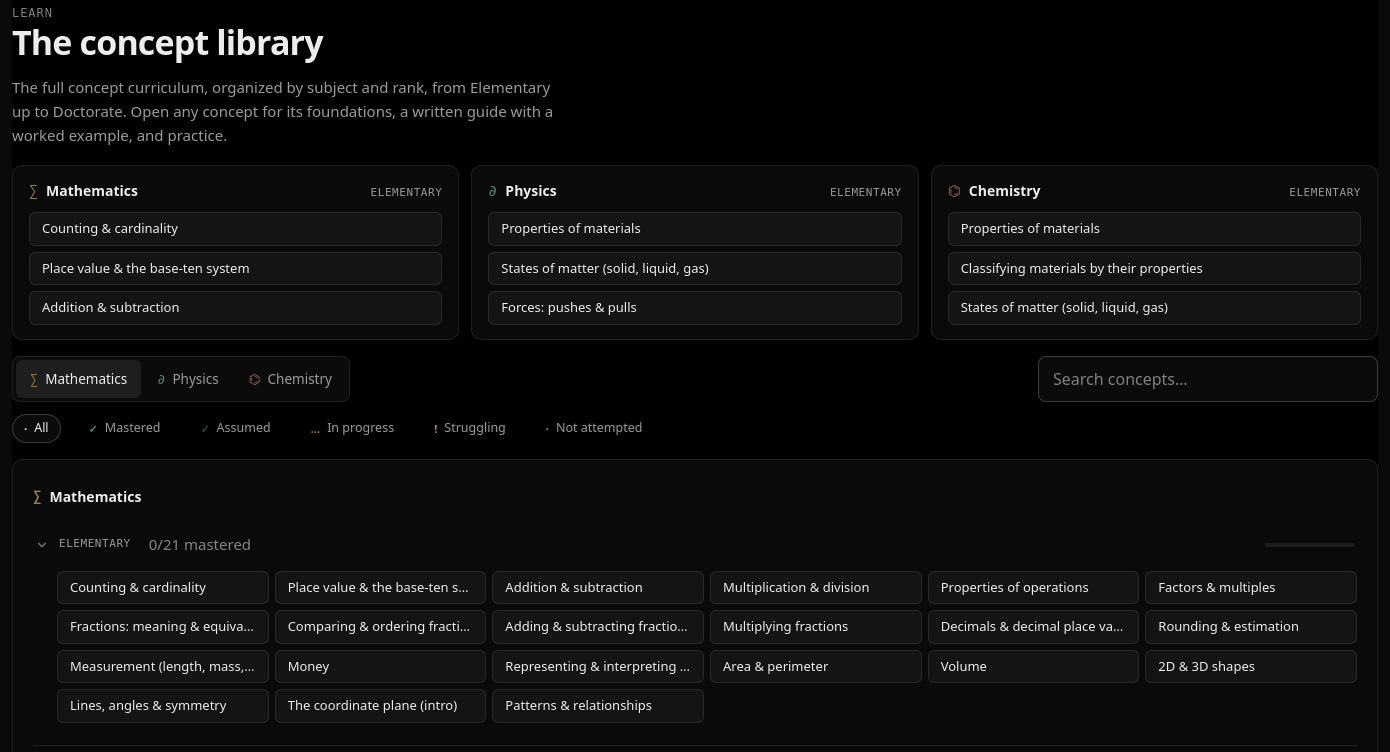
LearnTab — curriculum listing › the 'Up next' strip points each subject at its current rank's next concepts
The width and height of the screenshot is (1390, 752).
Click the button with aria-label "Up next: " at coordinates (110, 228), box left=29, top=212, right=442, bottom=246
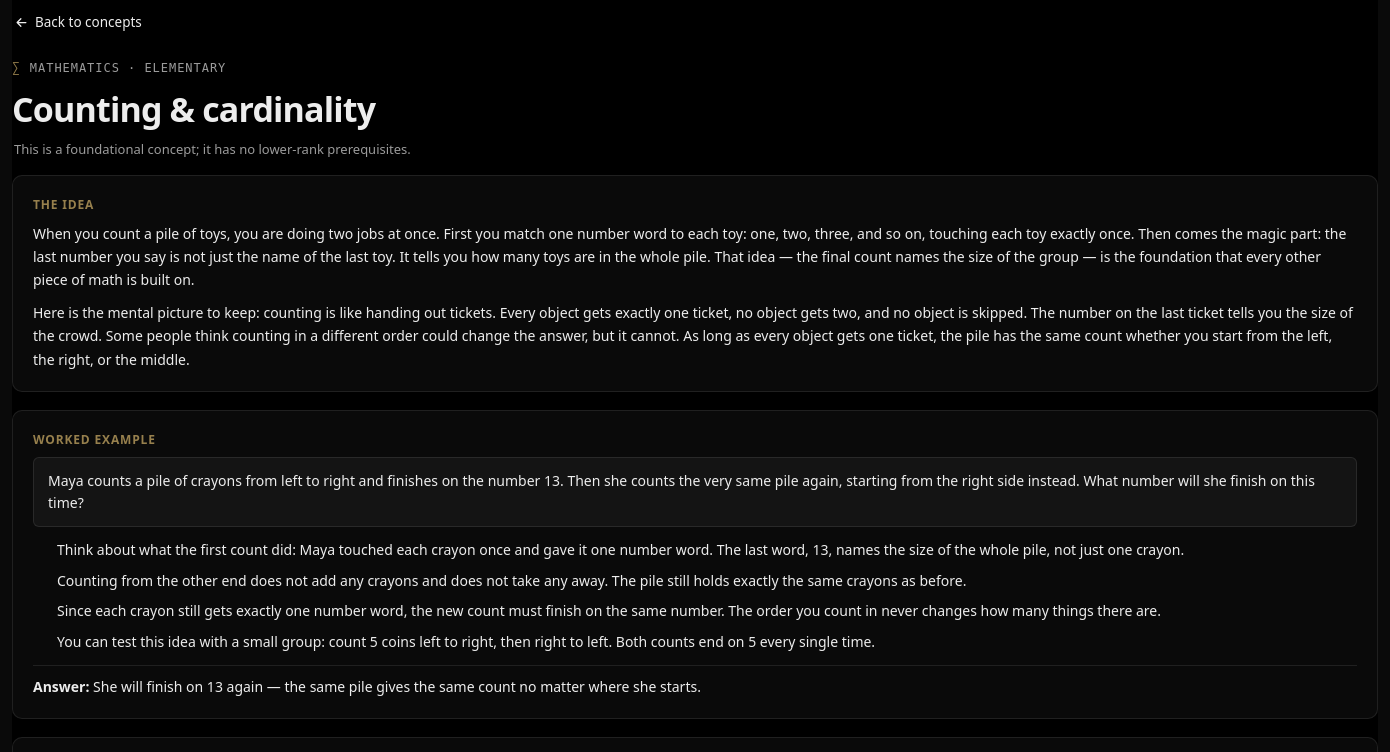
Now the button "Back to concepts" is shown, box left=12, top=0, right=144, bottom=44
